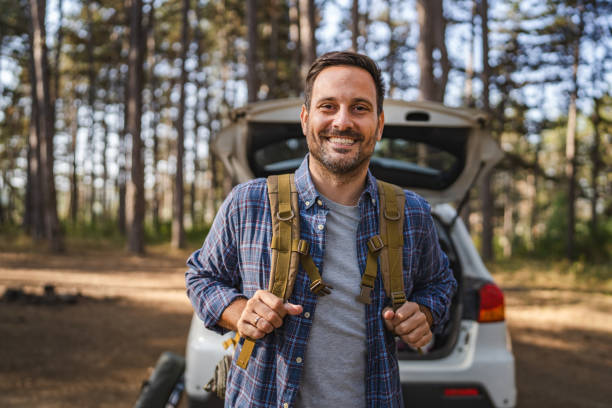Male: (190, 55, 473, 408)
